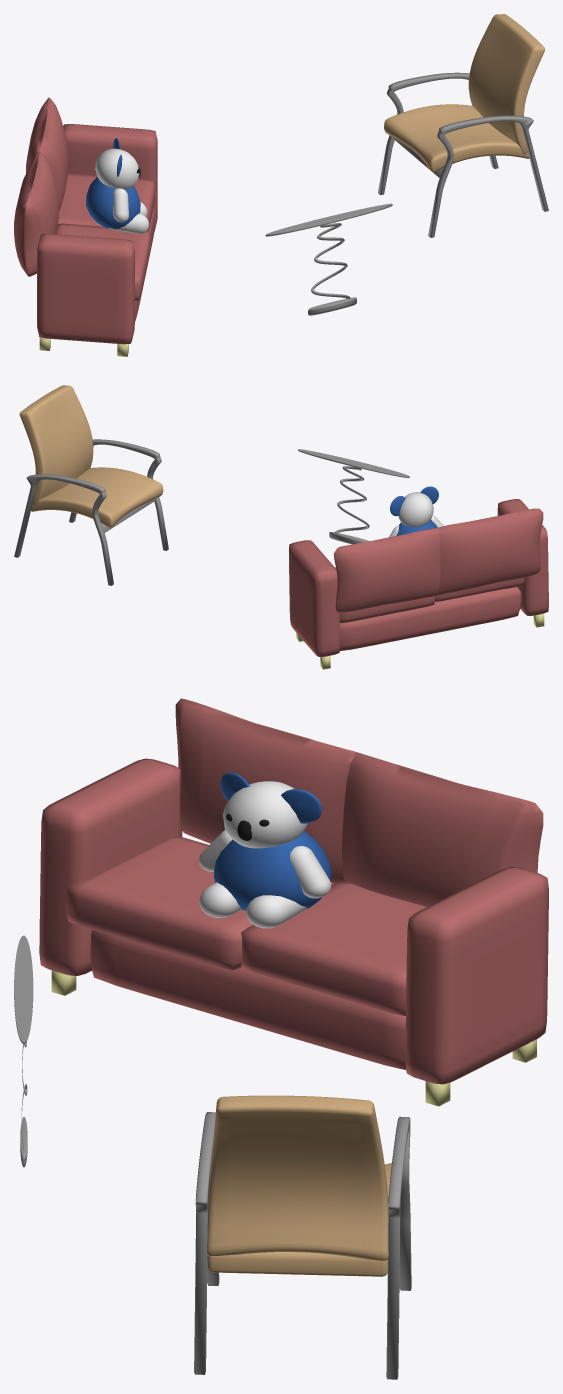
The picture shows the model from 3 angles, top to bottom: view 1: azimuth 30°, elevation 25°; view 2: azimuth 150°, elevation 25°; view 3: azimuth 270°, elevation 25°; orthographic projection. The views are drawn at different scales.
Parts seen in each view (by area): view 1: Box05, ChamferBox02, ChamferBox01, Box04, Line03, Line02, Line01, Box02, Box01, Sphere01, Sphere02, Line102 (+4 smaller); view 2: Line02, Line03, ChamferBox02, Box03, Box04, ChamferBox01, Box05, Line102, Line01, Sphere02, Box02, ChamferCyl01 (+2 smaller); view 3: ChamferBox02, Box04, Line02, Box03, Box05, Line03, Box02, Box01, Sphere01, Line102, Sphere02, ChamferBox01 (+6 smaller).
Boxes of the visible parts, x1,y1,x2,y2 form: Box05: (37, 234, 134, 344); ChamferBox02: (468, 14, 544, 154); ChamferBox01: (384, 104, 529, 172); Box04: (63, 124, 157, 231); Line03: (14, 149, 58, 276); Line02: (26, 97, 68, 210); Line01: (428, 115, 548, 237); Box02: (58, 173, 154, 230); Box01: (56, 223, 150, 300); Sphere01: (86, 177, 140, 229); Sphere02: (95, 148, 139, 189); Line102: (378, 72, 498, 195); Line02: (333, 527, 440, 612); Line03: (435, 508, 543, 595); ChamferBox02: (19, 385, 93, 508); Box03: (339, 587, 521, 650); Box04: (289, 540, 339, 656); ChamferBox01: (31, 467, 163, 527); Box05: (497, 499, 548, 615); Line102: (14, 474, 113, 585); Line01: (69, 439, 168, 550); Sphere02: (398, 492, 433, 527); Box02: (335, 567, 434, 623); ChamferCyl01: (298, 449, 409, 477); ChamferBox02: (207, 1095, 388, 1260); Box04: (405, 867, 548, 1084); Line02: (342, 750, 543, 906); Box03: (90, 930, 406, 1069); Box05: (39, 758, 182, 975); Line03: (175, 698, 361, 883); Box02: (241, 881, 426, 1015); Box01: (66, 836, 334, 969); Sphere01: (214, 831, 331, 910); Line102: (386, 1116, 411, 1379); Sphere02: (223, 781, 307, 848); ChamferBox01: (207, 1163, 391, 1276).
Bounding box in the file's own units: 1335 × 388 × 673.
